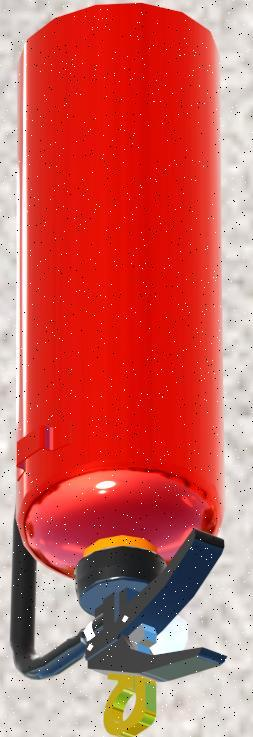Fire Extinguisher: (2, 0, 238, 729)
